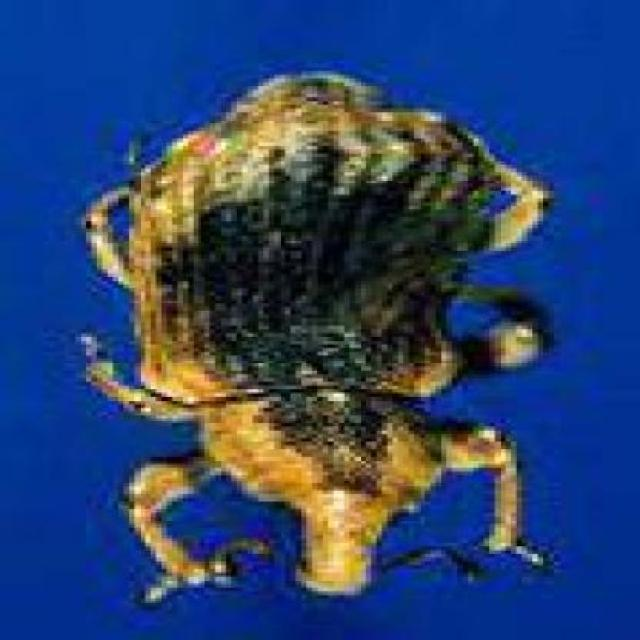rice-bug: (76, 67, 566, 607)
